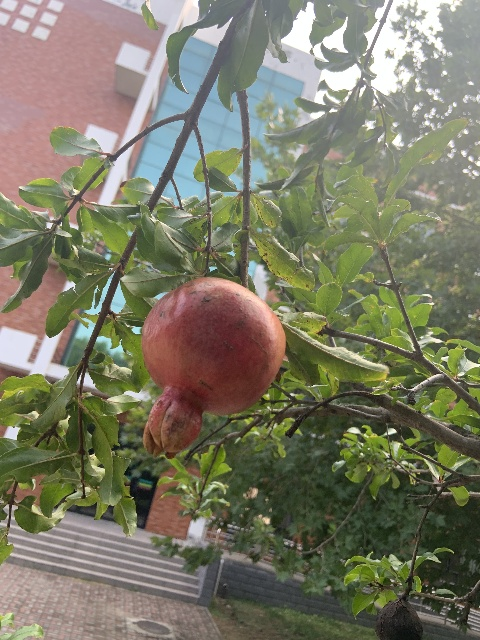ripe: (139, 277, 286, 458)
